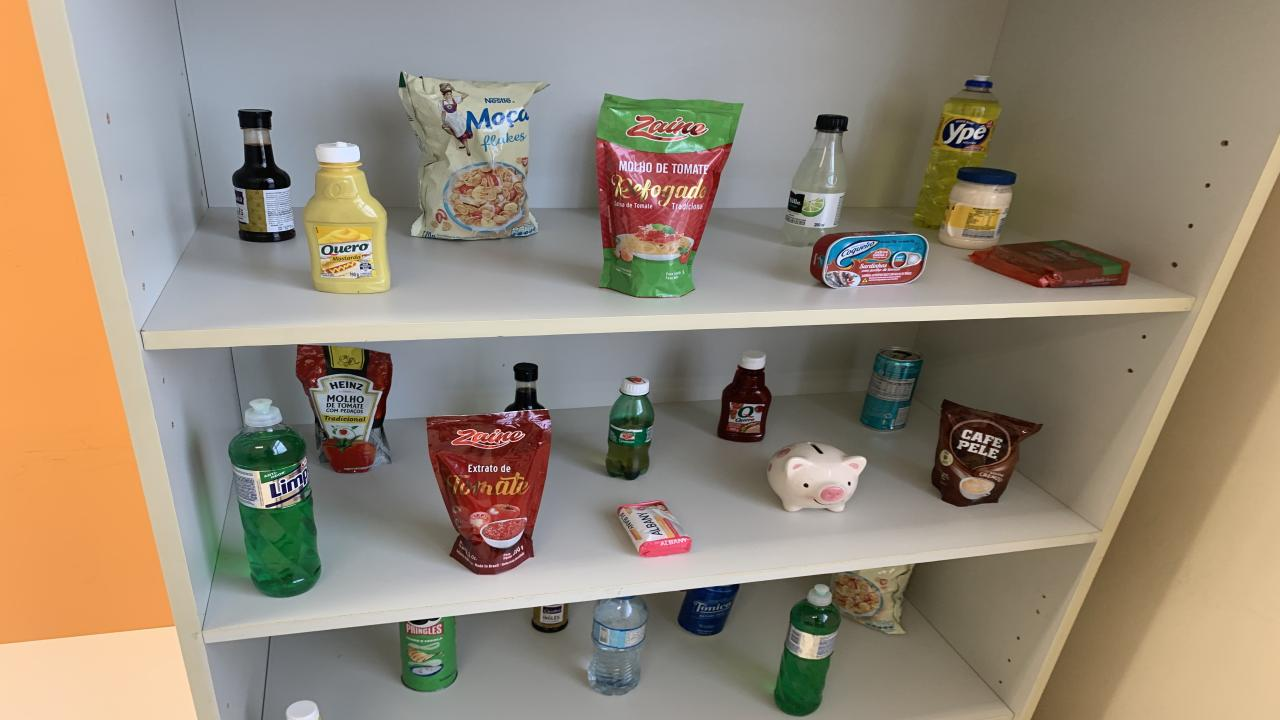Coffee-Pantry_Items: (930, 399, 1042, 506)
Detergent-Cleanup_Items: (228, 399, 320, 596), (912, 77, 1000, 231), (775, 585, 840, 716)
English_Sauce-Pantry_Items: (232, 109, 295, 242), (505, 362, 545, 412), (530, 604, 570, 634)
Flakes-Snacks: (398, 73, 548, 240), (830, 564, 915, 634)
Guarana-Drinks: (605, 377, 655, 480)
Guava-Snacks: (970, 240, 1130, 287)
Ketchup-Pantry_Items: (718, 351, 772, 442)
Mayonnaise-Pantry_Items: (940, 167, 1015, 249)
Mustard-Pantry_Items: (302, 142, 390, 292)
Pig_Safe-Miscellaneous: (768, 442, 868, 512)
Pringles-Snacks: (398, 617, 458, 692)
Soap-Cleanup_Items: (618, 501, 690, 557)
Soda-Drinks: (782, 114, 848, 246)
Tea-Drinks: (860, 347, 922, 429)
Tomato_Sauce-Pantry_Items: (598, 94, 742, 298), (428, 411, 550, 574), (295, 345, 392, 472)
Tonic-Drinks: (678, 585, 740, 636)
Tuna_Can-Pantry_Items: (810, 232, 928, 289)
Water_Bottle-Drinks: (588, 596, 648, 696)
